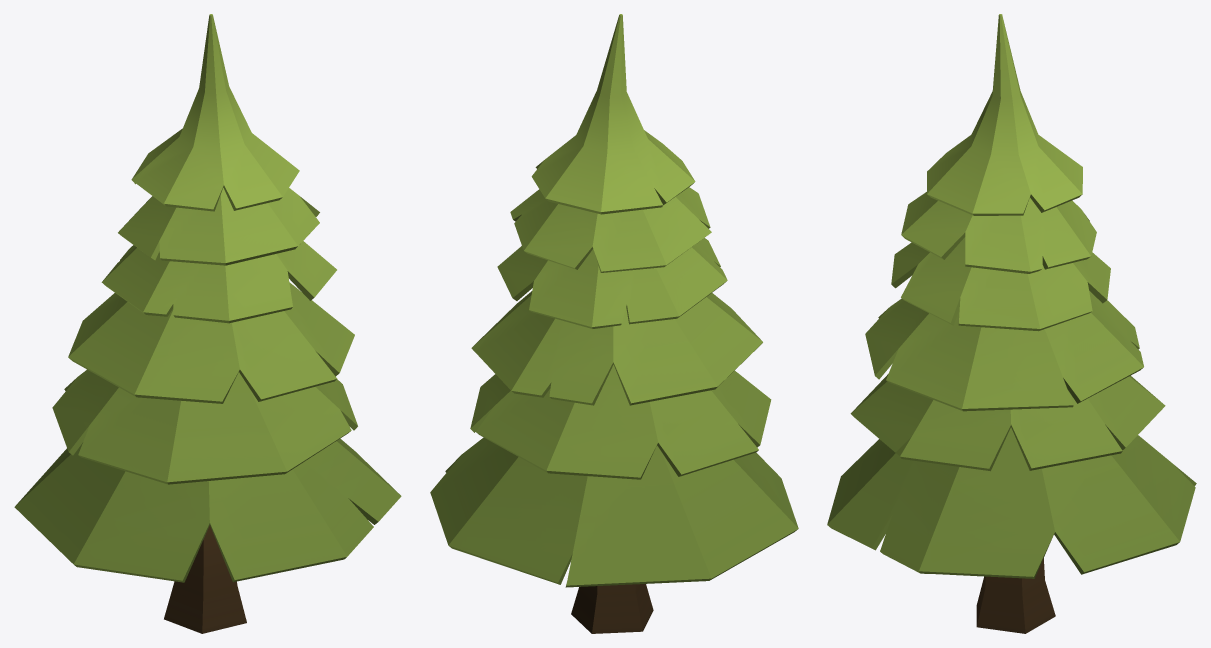
The model's file is Spring_Tree_03.glb.
3 renders of one model, left to right at view 1: azimuth 30°, elevation 25°; view 2: azimuth 150°, elevation 25°; view 3: azimuth 270°, elevation 25°, orthographic.
Parts seen in each view (by area): view 1: Spring_Tree_03_LOD0; view 2: Spring_Tree_03_LOD0; view 3: Spring_Tree_03_LOD0.
Part boxes in pixels (x1,y1,x2,y2): Spring_Tree_03_LOD0: (14, 14, 401, 633); Spring_Tree_03_LOD0: (430, 14, 798, 633); Spring_Tree_03_LOD0: (827, 14, 1196, 633).
Size of what is drawn, in the model's own units: 2.37 by 4.3 by 2.4.
1 material, 1 textured.
